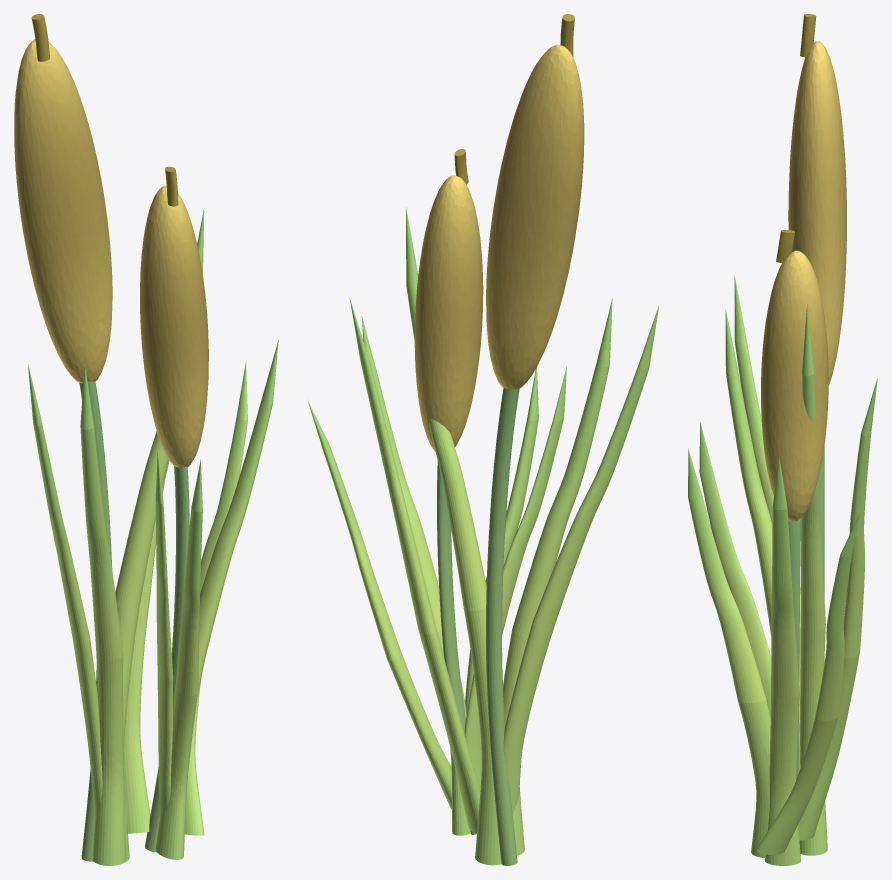
Rendered from cattail.glb.
The picture shows the model from 3 angles, left to right: view 1: azimuth 30°, elevation 25°; view 2: azimuth 150°, elevation 25°; view 3: azimuth 270°, elevation 25°; orthographic projection. The views are drawn at different scales.
Parts seen in each view (by area): view 1: Quad Sphere, Quad Sphere 1, Tube 1, Tube (×3), Tube 9, Tube 2, Tube 8, Tube 3, Tube 10, Tube 11, Tube 5; view 2: Quad Sphere, Tube (×2), Quad Sphere 1, Tube 2, Tube 3, Tube 1, Tube 11, Tube 10, Tube 8, Tube 5, Tube 9; view 3: Quad Sphere 1, Quad Sphere, Tube 8, Tube (×3), Tube 9, Tube 11, Tube 3, Tube 1, Tube 10, Tube 2, Tube 5, Tube 7.
Boxes of the visible parts, x1=… form: Quad Sphere: x1=14, y1=39, x2=112, y2=383; Quad Sphere 1: x1=140, y1=185, x2=208, y2=467; Tube 1: x1=80, y1=364, x2=126, y2=865; Tube (×3): x1=31, y1=14, x2=204, y2=862; Tube 9: x1=155, y1=459, x2=202, y2=859; Tube 2: x1=28, y1=364, x2=102, y2=817; Tube 8: x1=198, y1=340, x2=278, y2=693; Tube 3: x1=124, y1=460, x2=169, y2=833; Tube 10: x1=155, y1=452, x2=173, y2=817; Tube 11: x1=185, y1=360, x2=247, y2=835; Tube 5: x1=145, y1=466, x2=189, y2=852; Quad Sphere: x1=486, y1=44, x2=584, y2=390; Tube (×2): x1=406, y1=207, x2=519, y2=865; Quad Sphere 1: x1=414, y1=175, x2=483, y2=451; Tube 2: x1=503, y1=304, x2=659, y2=813; Tube 3: x1=349, y1=298, x2=480, y2=833; Tube 1: x1=503, y1=298, x2=612, y2=855; Tube 11: x1=307, y1=400, x2=451, y2=809; Tube 10: x1=464, y1=366, x2=566, y2=788; Tube 8: x1=361, y1=315, x2=470, y2=835; Tube 5: x1=437, y1=461, x2=476, y2=834; Tube 9: x1=465, y1=367, x2=538, y2=789; Quad Sphere 1: x1=761, y1=250, x2=828, y2=521; Quad Sphere: x1=788, y1=41, x2=846, y2=384; Tube 8: x1=764, y1=456, x2=800, y2=865; Tube (×3): x1=799, y1=14, x2=827, y2=855; Tube 9: x1=688, y1=449, x2=770, y2=858; Tube 11: x1=756, y1=514, x2=859, y2=854; Tube 3: x1=798, y1=378, x2=877, y2=840; Tube 1: x1=725, y1=309, x2=800, y2=773; Tube 10: x1=699, y1=422, x2=771, y2=717; Tube 2: x1=734, y1=275, x2=800, y2=663; Tube 5: x1=788, y1=518, x2=800, y2=778; Tube 7: x1=776, y1=229, x2=794, y2=263.
Size of the model in its own units: 0.3924 by 1.13 by 0.2431.
